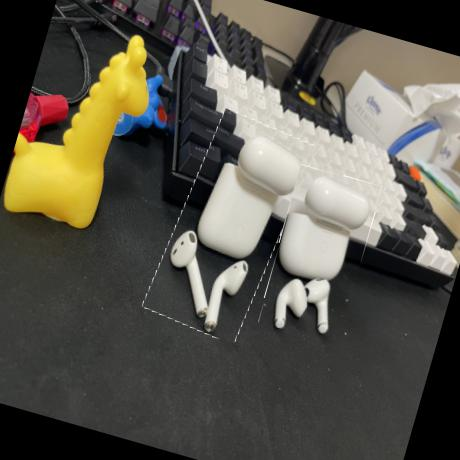airpod2: (146, 105, 314, 347)
airpod3: (256, 164, 383, 346)
